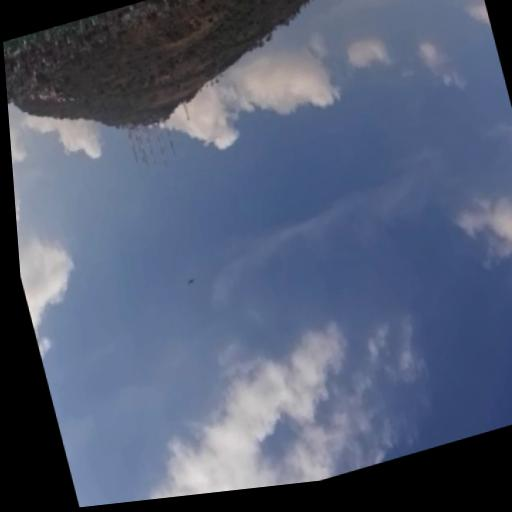drones: (183, 269, 199, 289)
